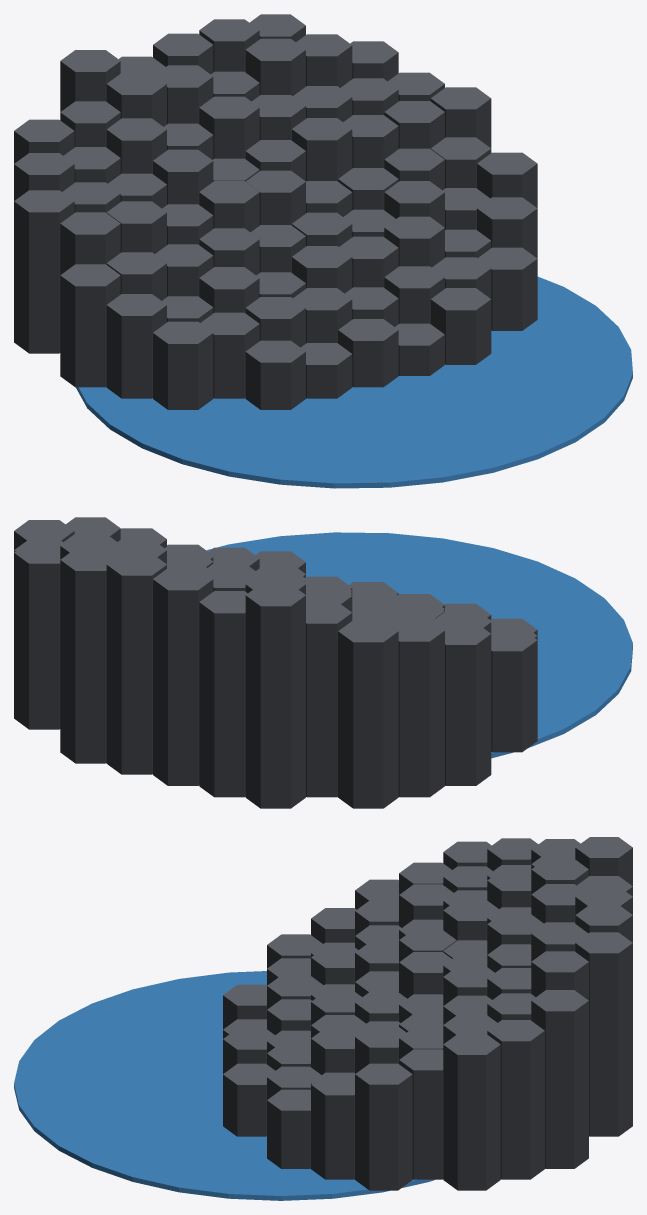
Rendered from causeway.glb.
The picture shows the model from 3 angles, top to bottom: view 1: azimuth 30°, elevation 25°; view 2: azimuth 150°, elevation 25°; view 3: azimuth 270°, elevation 25°; orthographic projection. The views are drawn at different scales.
Bounding box in the file's own units: 2 × 0.8159 × 2.32.
